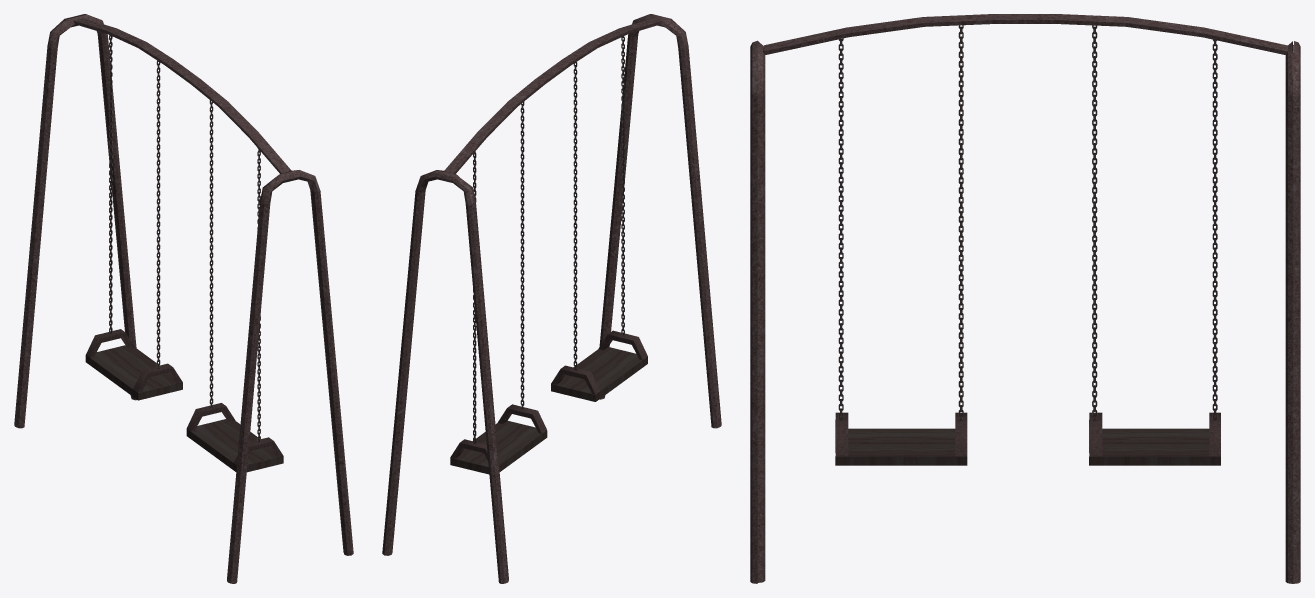
The model's file is swing2.fbx.
3 renders of one model, left to right at view 1: azimuth 30°, elevation 25°; view 2: azimuth 150°, elevation 25°; view 3: azimuth 270°, elevation 25°, orthographic. The views are drawn at different scales.
Parts seen in each view (by area): view 1: pCylinder3, pCube2, pCube1, pPlane6, pPlane8, pPlane9, pPlane7; view 2: pCylinder3, pCube1, pCube2, pPlane6, pPlane8, pPlane7, pPlane9; view 3: pCylinder3, pCube1, pCube2, pPlane6, pPlane8, pPlane9, pPlane7.
Boxes of the visible parts, left/top/right/bottom form: pCylinder3: left=14, top=14, right=353, bottom=583; pCube2: left=85, top=329, right=182, bottom=400; pCube1: left=186, top=403, right=283, bottom=472; pPlane6: left=209, top=100, right=213, bottom=407; pPlane8: left=156, top=60, right=160, bottom=369; pPlane9: left=109, top=35, right=112, bottom=333; pPlane7: left=257, top=148, right=260, bottom=444; pCylinder3: left=382, top=14, right=721, bottom=583; pCube1: left=551, top=330, right=647, bottom=401; pCube2: left=450, top=404, right=547, bottom=474; pPlane6: left=573, top=62, right=577, bottom=370; pPlane8: left=520, top=102, right=524, bottom=409; pPlane7: left=621, top=36, right=624, bottom=335; pPlane9: left=473, top=151, right=476, bottom=443; pCylinder3: left=750, top=14, right=1300, bottom=583; pCube1: left=835, top=412, right=967, bottom=465; pCube2: left=1089, top=412, right=1220, bottom=465; pPlane6: left=958, top=25, right=963, bottom=420; pPlane8: left=1092, top=25, right=1097, bottom=420; pPlane9: left=1212, top=39, right=1217, bottom=420; pPlane7: left=838, top=38, right=843, bottom=420.
Size of the model in its own units: 3.63 by 11.63 by 10.97.
Materials: 1 (1 with a texture image).
